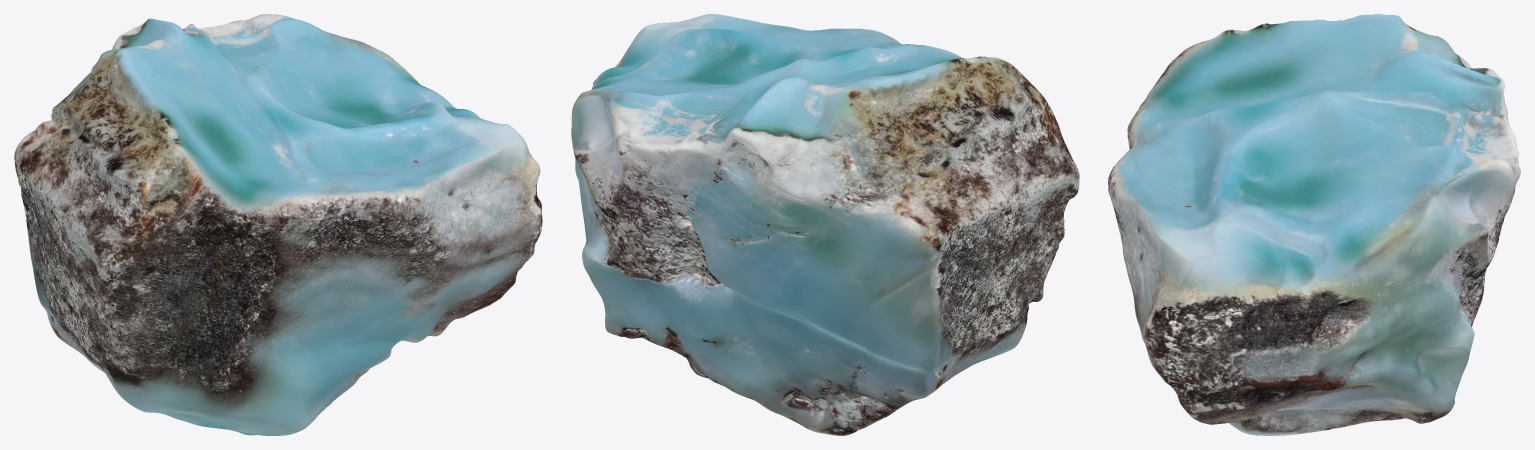
File: observador_azury_lite.glb
The picture shows the model from 3 angles, left to right: view 1: azimuth 30°, elevation 25°; view 2: azimuth 150°, elevation 25°; view 3: azimuth 270°, elevation 25°; orthographic projection. The views are drawn at different scales.
Bounding box in the file's own units: 1.9 × 1.49 × 1.51.
Materials: 1 (1 with a texture image).
